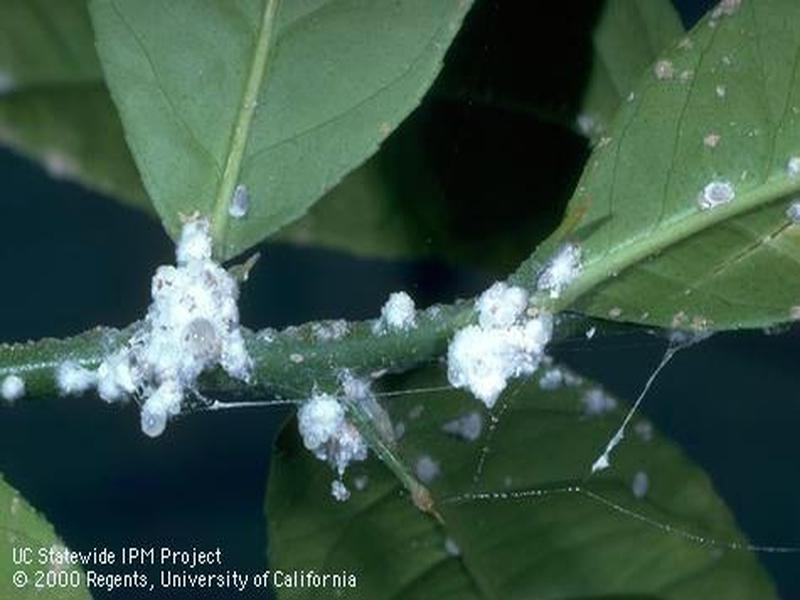Mealy_bug: (61, 225, 248, 427), (415, 266, 570, 396)
